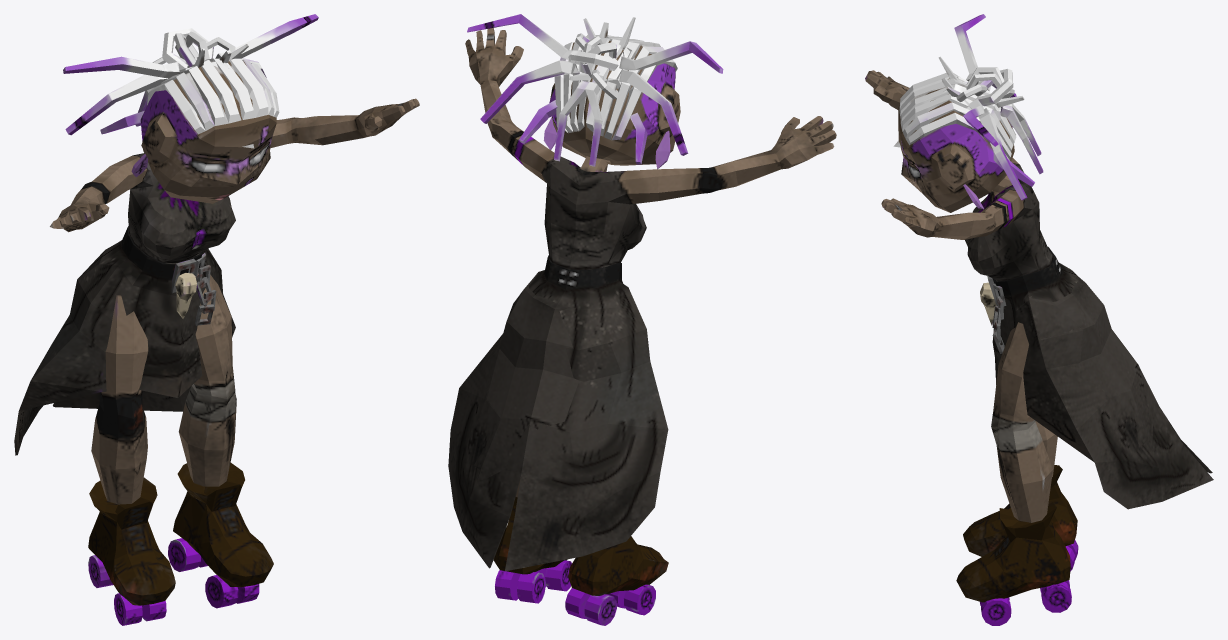
File: bruja_000206.obj
3 renders of one model, left to right at view 1: azimuth 30°, elevation 25°; view 2: azimuth 150°, elevation 25°; view 3: azimuth 270°, elevation 25°, orthographic. The views are drawn at different scales.
Visible parts, largest first — view 1: Bruja_Plane.001; view 2: Bruja_Plane.001; view 3: Bruja_Plane.001.
Boxes of the visible parts, x1=… form: Bruja_Plane.001: x1=14, y1=14, x2=419, y2=625; Bruja_Plane.001: x1=448, y1=14, x2=836, y2=625; Bruja_Plane.001: x1=865, y1=14, x2=1213, y2=625.
Bounding box in the file's own units: 10.76 × 16.18 × 9.55.
